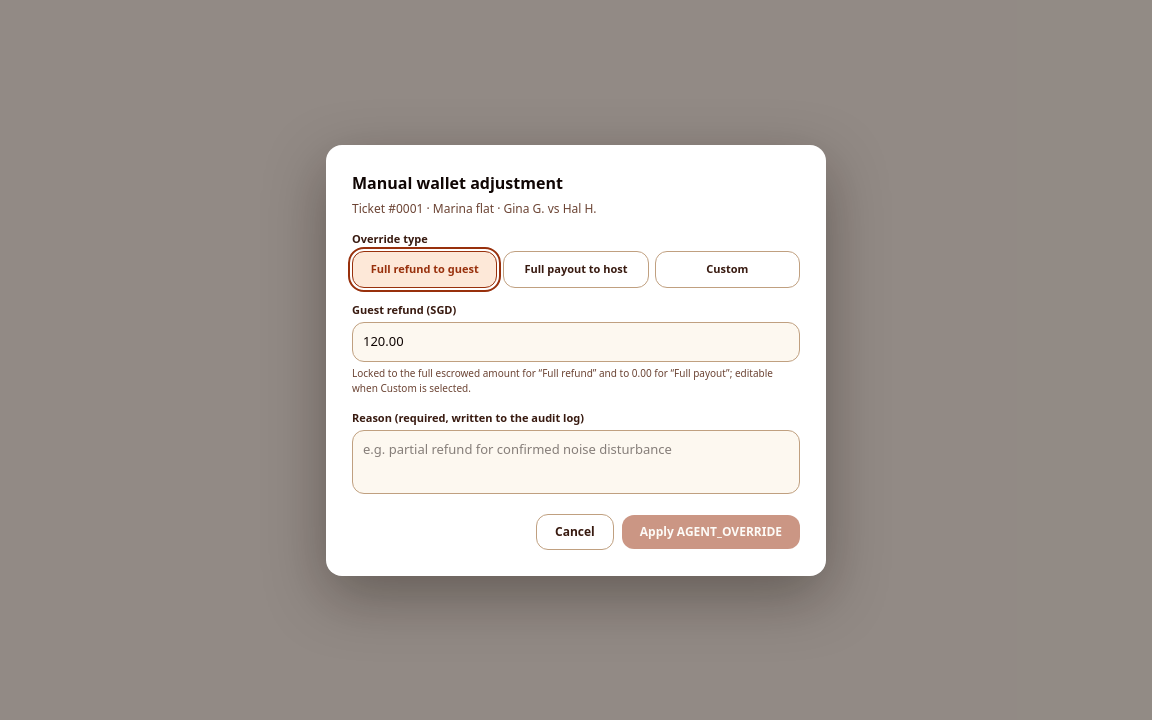
Test: ResolutionDialog (F7, F14) › Manual custom accepts zero but not a bad format
Click the button "Custom" at (727, 269), box [655,251,800,288]
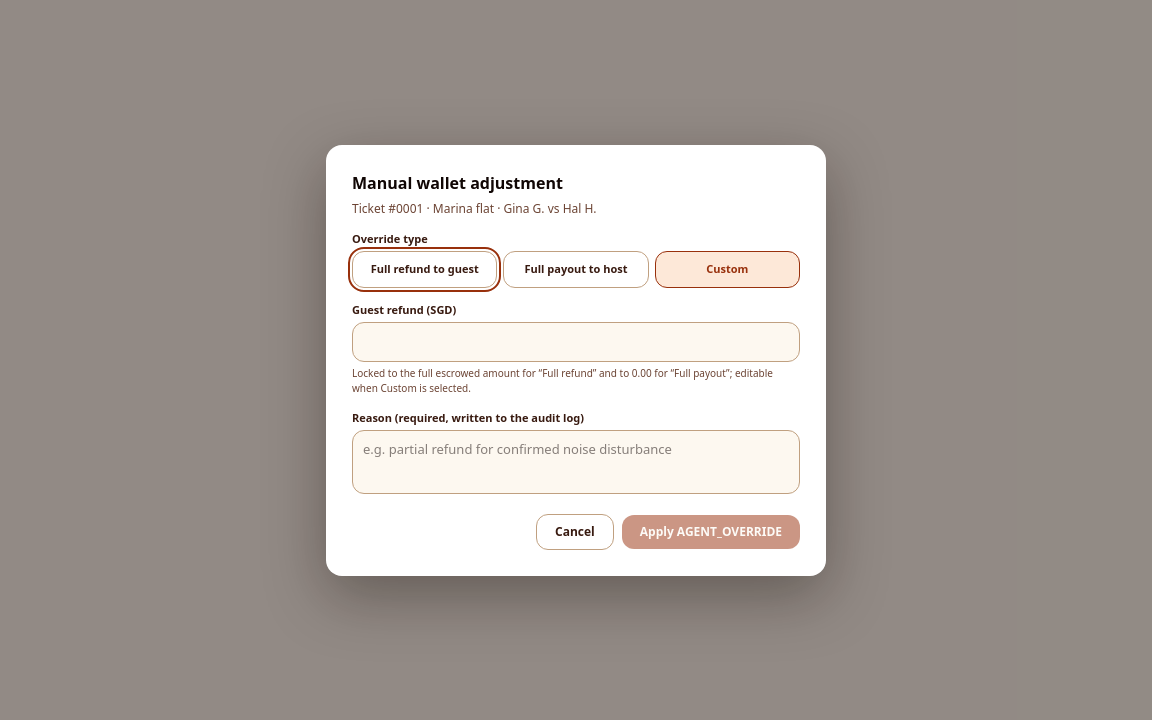
Type "Custom" into the text box labelled "Reason (required, written to the audit log)" at (576, 462), box [352,430,800,494]
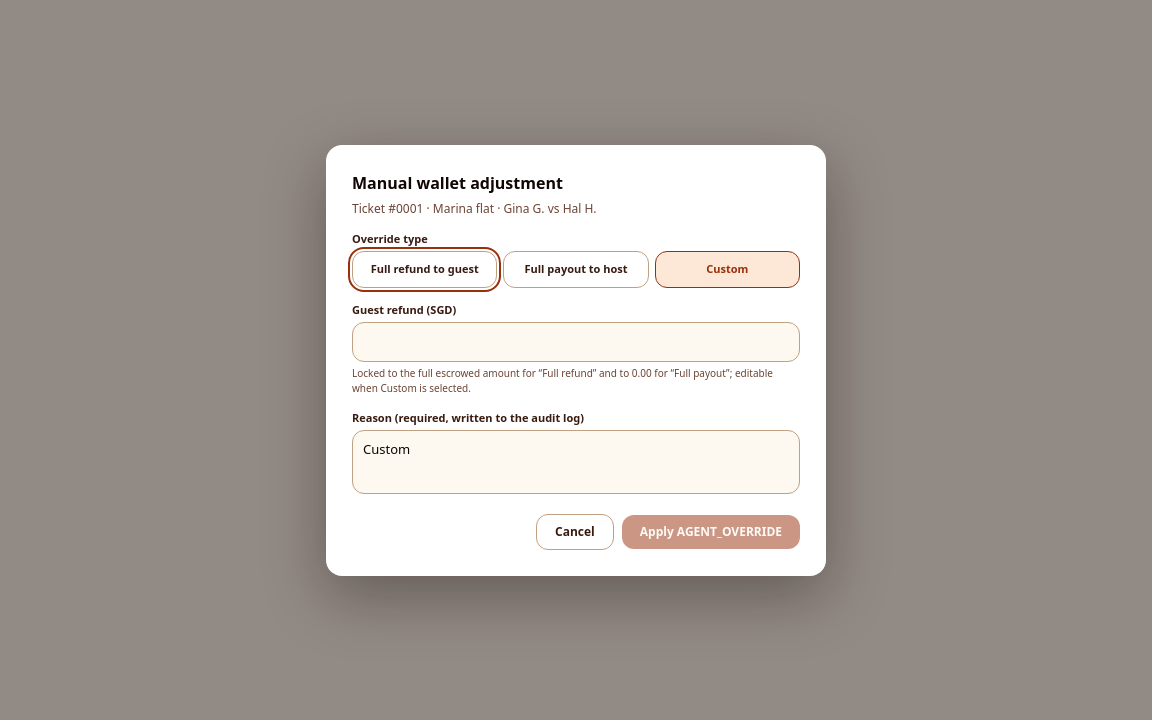
Type "1.234" into the field labelled "Guest refund (SGD)" at (576, 342), box [352,322,800,362]
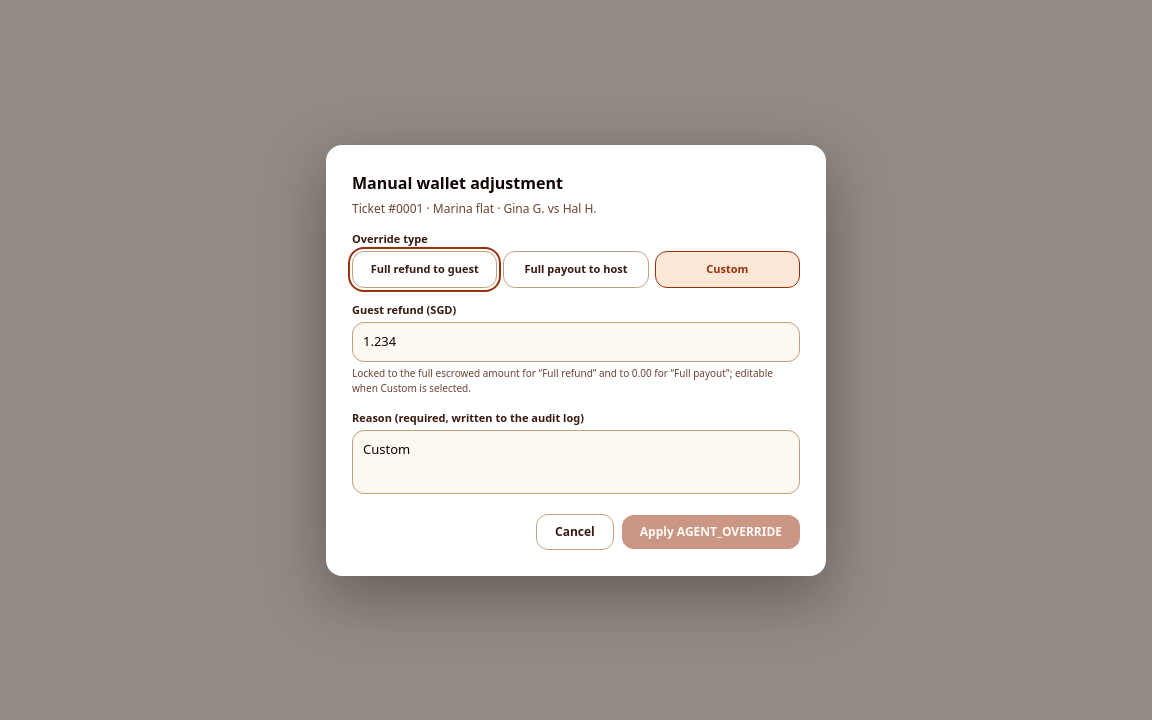
Expected: the button "Apply AGENT_OVERRIDE" is disabled, [622,514,800,548]
Replace the text in the field labelled "Guest refund (SGD)" with "0" at (576, 342), box [352,322,800,362]
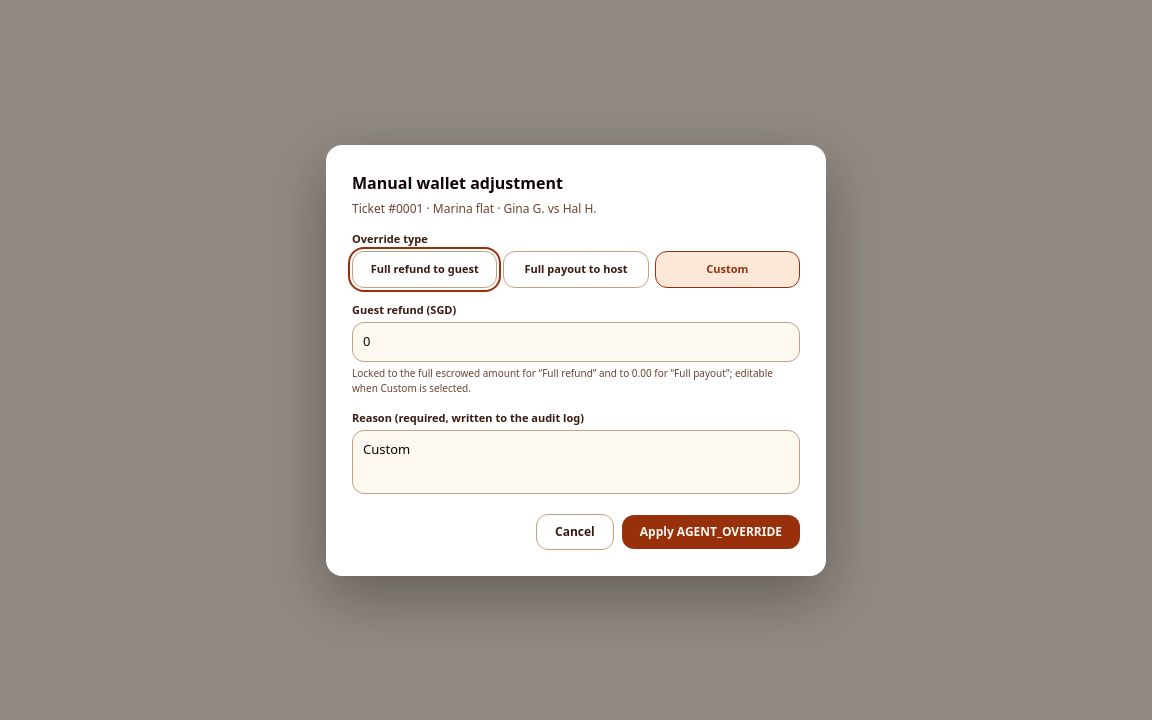
Now the button "Apply AGENT_OVERRIDE" is enabled, box [622,514,800,548]
